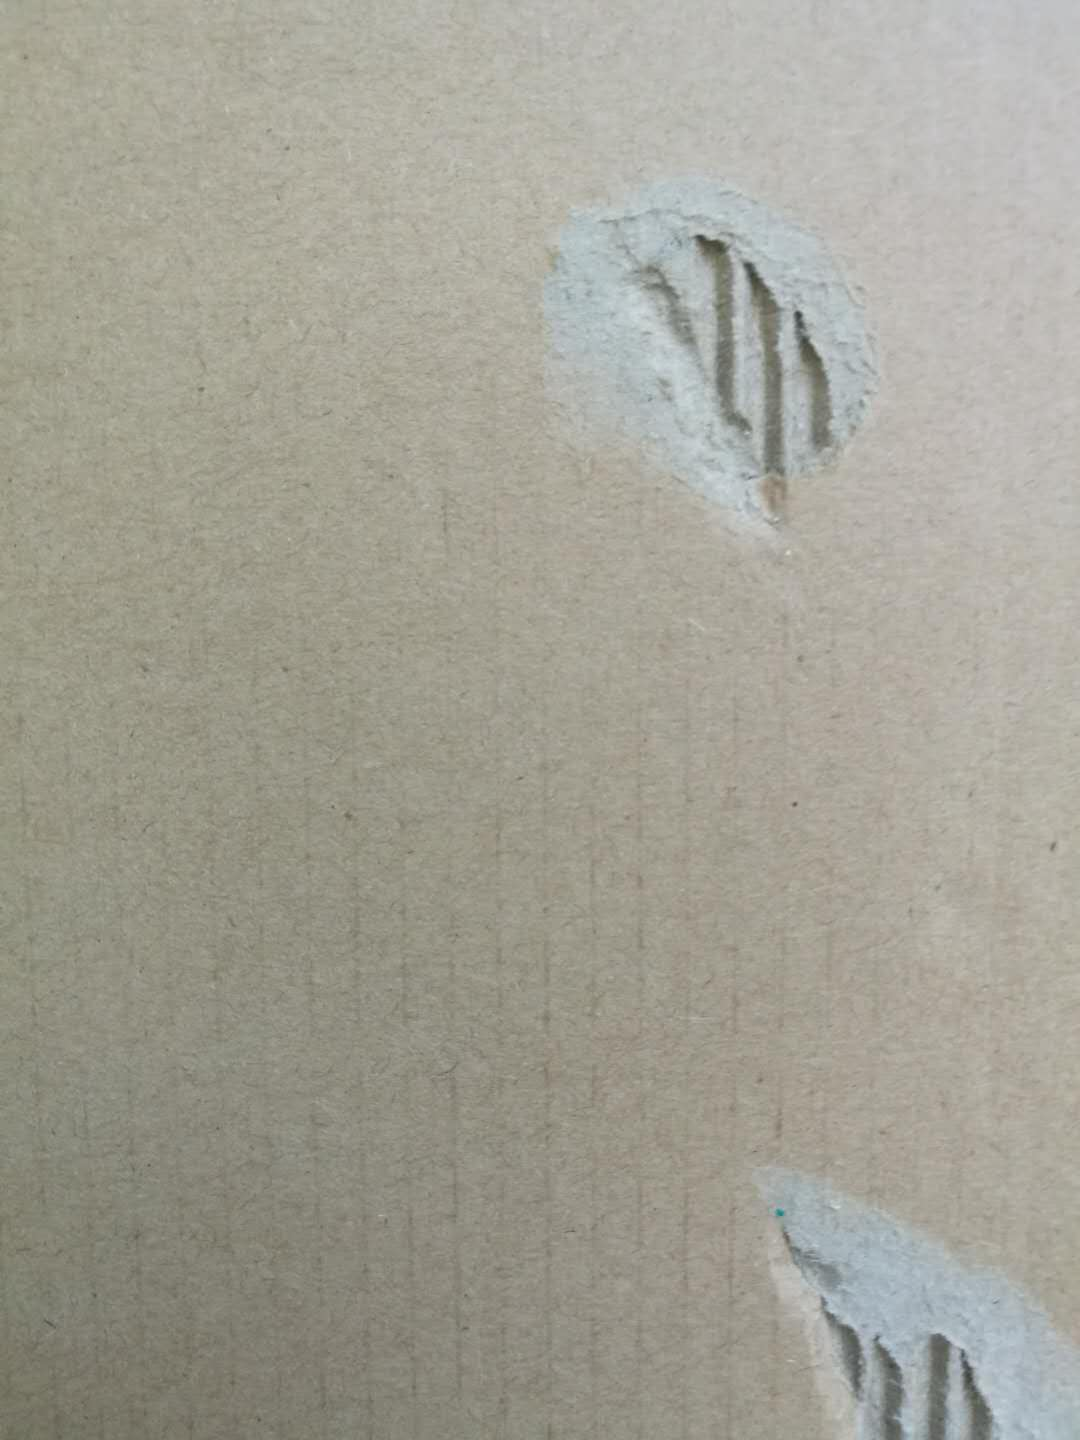defect: (518, 145, 912, 579), (734, 1127, 1080, 1435)
